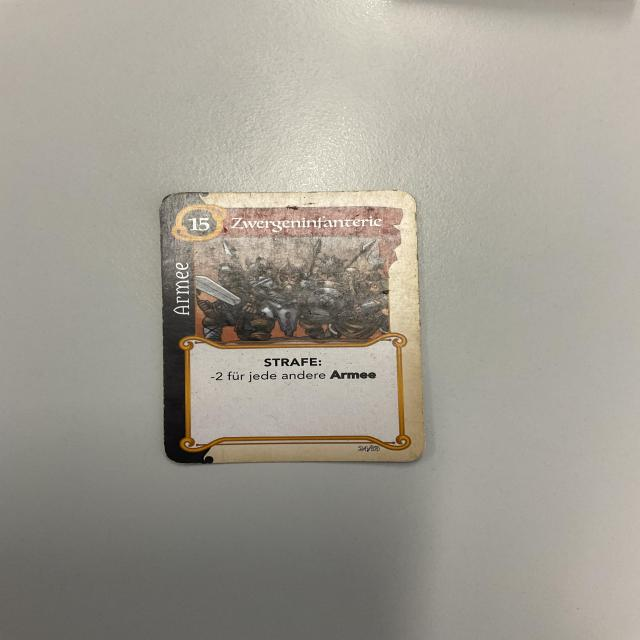Dwarvish Infantry: (158, 191, 429, 465)
